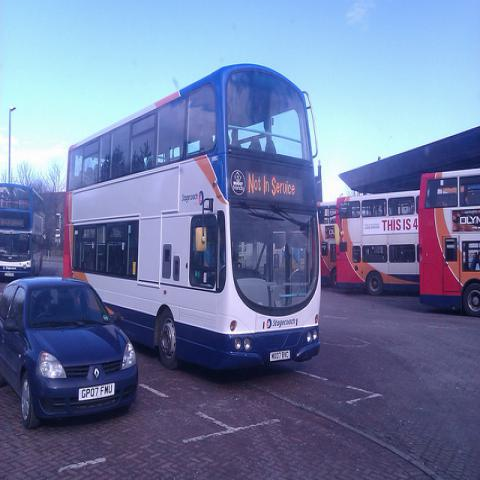bus: (65, 67, 319, 366), (418, 166, 480, 319), (336, 192, 419, 294), (0, 186, 44, 279), (317, 200, 337, 287)
car: (1, 282, 138, 422)
